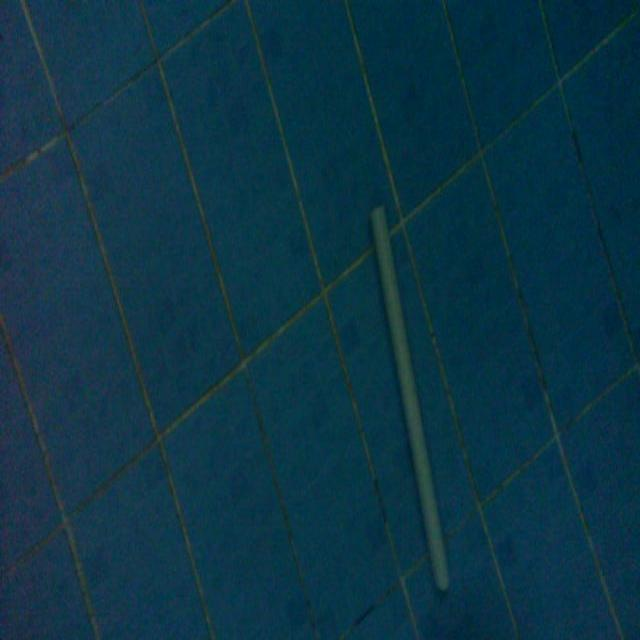Cube: (367, 197, 453, 594)
